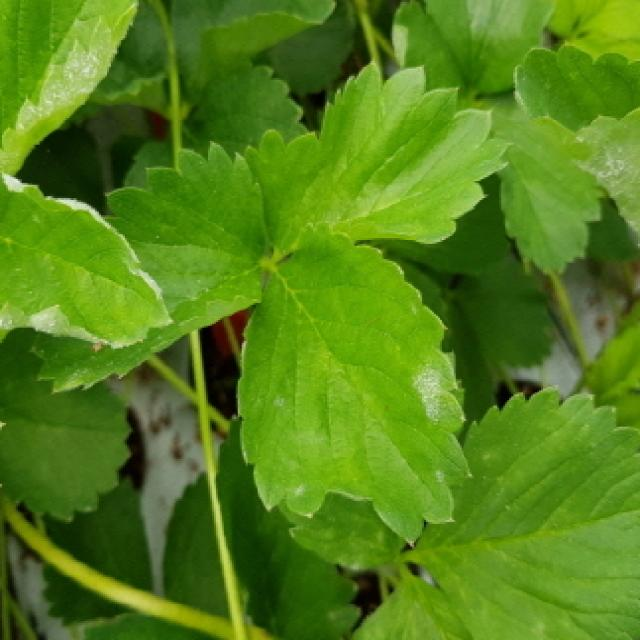Powdery Mildew Leaf: (236, 218, 473, 549), (0, 169, 176, 350), (511, 44, 640, 251)
